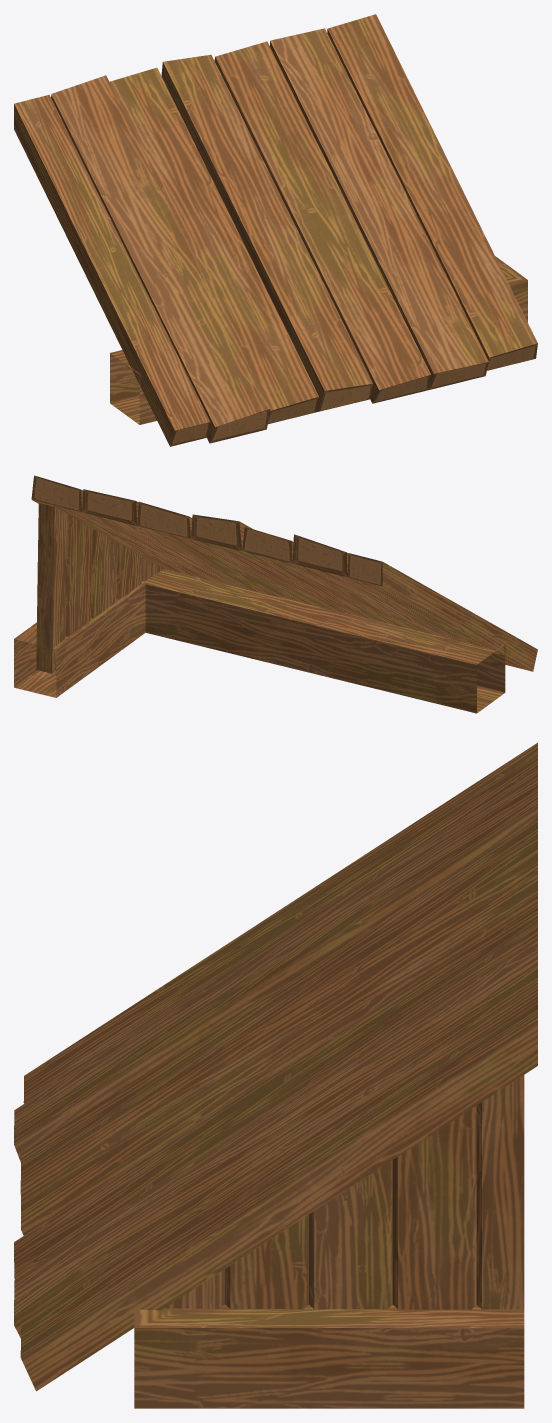
Rendered from Roof_Wooden_2x1_R.gltf.
The picture shows the model from 3 angles, top to bottom: view 1: azimuth 30°, elevation 25°; view 2: azimuth 150°, elevation 25°; view 3: azimuth 270°, elevation 25°; orthographic projection. The views are drawn at different scales.
Parts seen in each view (by area): view 1: Roof_Wooden_2x1_R; view 2: Roof_Wooden_2x1_R; view 3: Roof_Wooden_2x1_R.
Boxes of the visible parts, x1=… form: Roof_Wooden_2x1_R: x1=14, y1=14, x2=537, y2=446; Roof_Wooden_2x1_R: x1=14, y1=475, x2=537, y2=713; Roof_Wooden_2x1_R: x1=14, y1=742, x2=537, y2=1408.
Size of the model in its own units: 2.13 by 1.25 by 1.56.
Materials: 2 (2 with a texture image).
